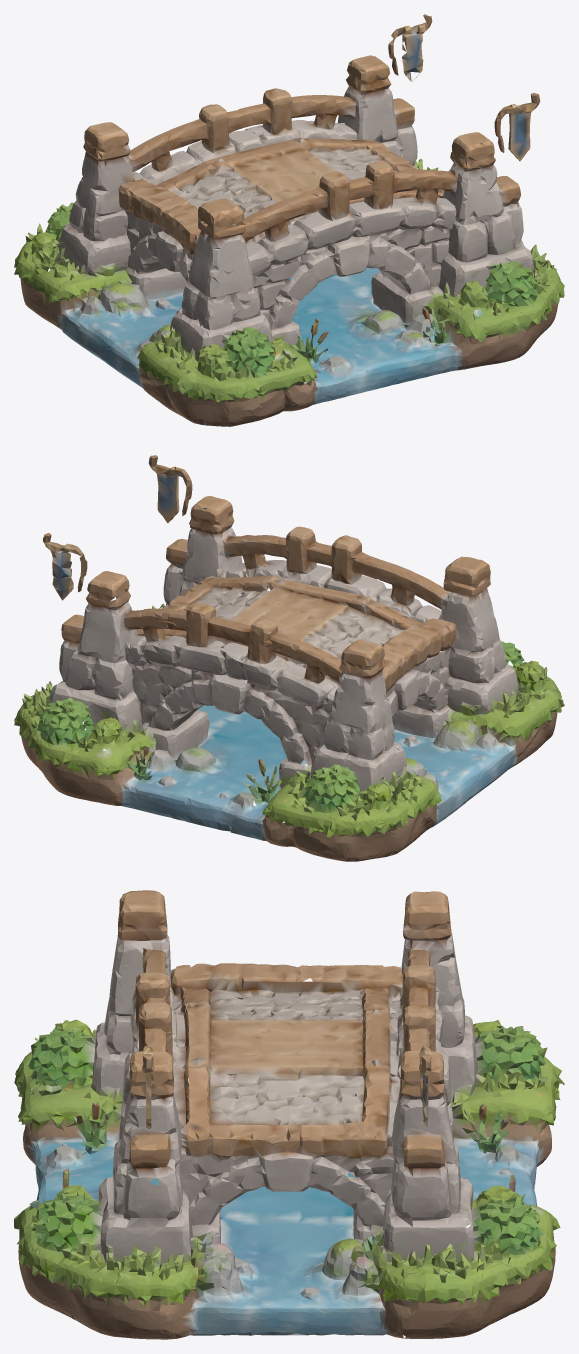
Rendered from world_stone_bridge_lod0.glb.
3 views of the same model, one above another, from view 1: azimuth 30°, elevation 25°; view 2: azimuth 150°, elevation 25°; view 3: azimuth 270°, elevation 25° (orthographic). The views are drawn at different scales.
Parts seen in each view (by area): view 1: world; view 2: world; view 3: world.
Part boxes in pixels (x1,y1,x2,y2): world: (14,14,564,426); world: (14,455,564,861); world: (14,890,564,1339).
Size of the model in its own units: 1.89 by 0.9593 by 1.7.
